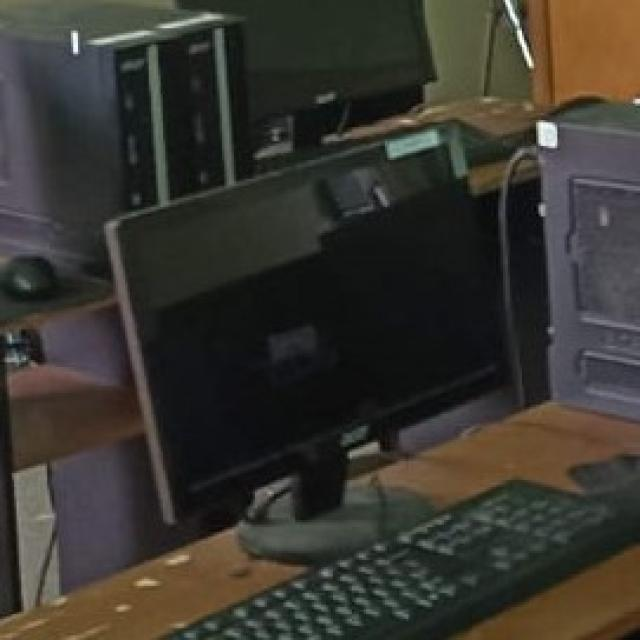offscreen: (109, 124, 500, 523)
